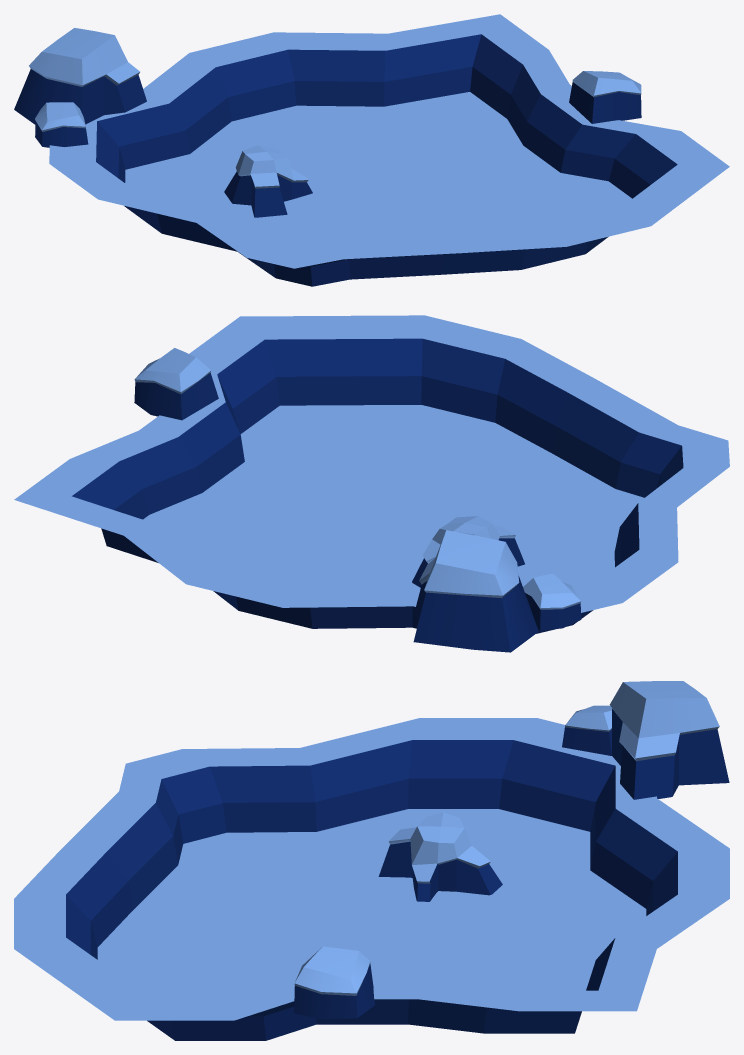
The model's file is Frozen_Pond.fbx.
3 renders of one model, top to bottom at view 1: azimuth 30°, elevation 25°; view 2: azimuth 150°, elevation 25°; view 3: azimuth 270°, elevation 25°, orthographic. The views are drawn at different scales.
Parts seen in each view (by area): view 1: Frozen_pond; view 2: Frozen_pond; view 3: Frozen_pond.
Part boxes in pixels (x1=…): Frozen_pond: x1=14, y1=14, x2=729, y2=286; Frozen_pond: x1=14, y1=315, x2=729, y2=652; Frozen_pond: x1=14, y1=681, x2=729, y2=1040.
Bounding box in the file's own units: 62.08 × 13.84 × 62.08.
